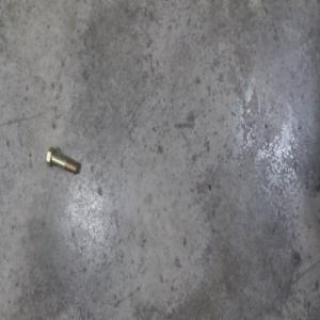Bolttrack_idkeyframe: (45, 146, 77, 177)
